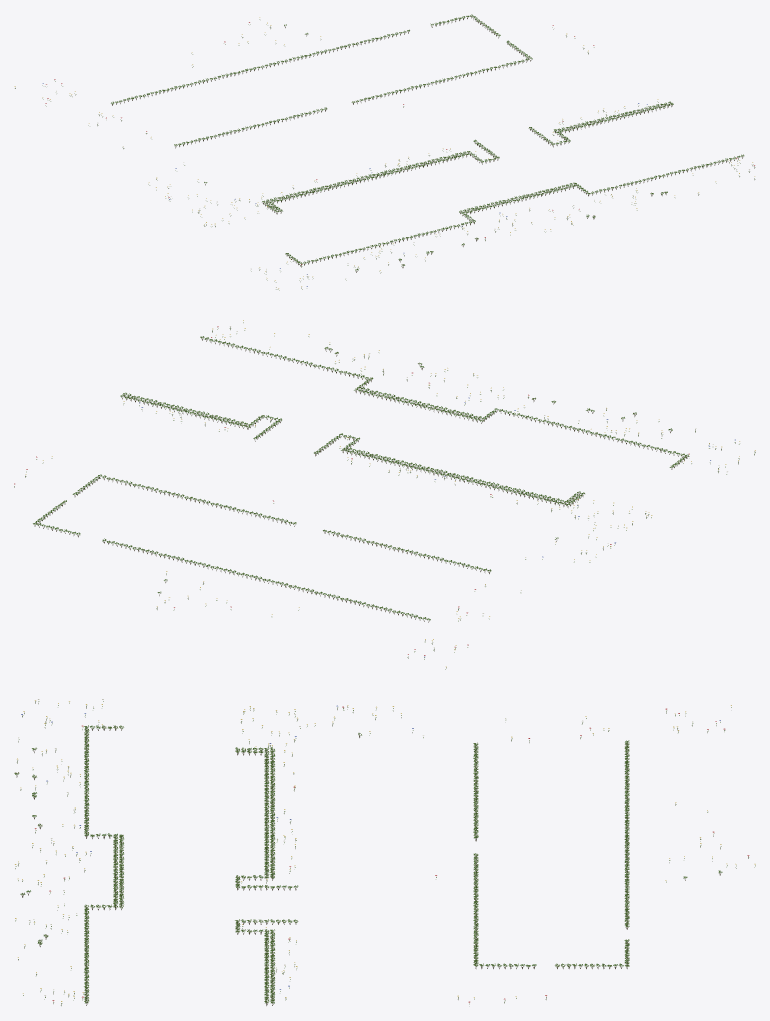
The picture shows the model from 3 angles, top to bottom: view 1: azimuth 30°, elevation 25°; view 2: azimuth 150°, elevation 25°; view 3: azimuth 270°, elevation 25°; orthographic projection. The views are drawn at different scales.
Visible parts, largest first — view 1: GROUND_FLORA_s_-5_-5; view 2: GROUND_FLORA_s_-5_-5; view 3: GROUND_FLORA_s_-5_-5.
Boxes of the visible parts, x1,y1,x2,y2 form: GROUND_FLORA_s_-5_-5: (14, 14, 755, 290); GROUND_FLORA_s_-5_-5: (14, 320, 755, 669); GROUND_FLORA_s_-5_-5: (14, 699, 755, 1005).
Bounding box in the file's own units: 124 × 0.9729 × 128.
